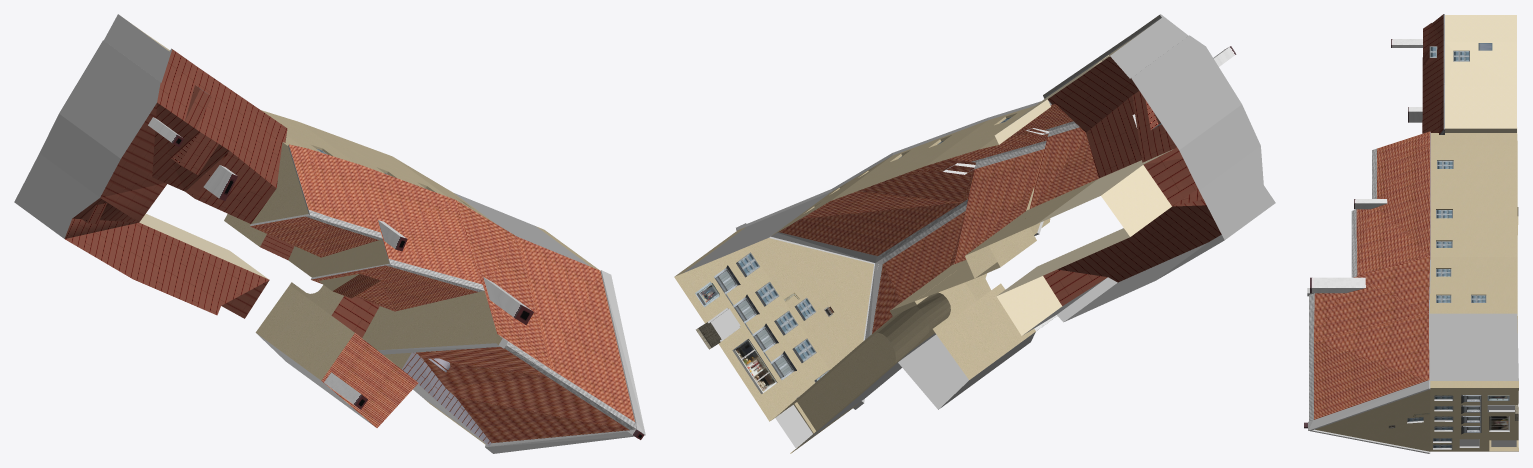
Rendered from Pikk_15.obj.
The picture shows the model from 3 angles, left to right: view 1: azimuth 30°, elevation 25°; view 2: azimuth 150°, elevation 25°; view 3: azimuth 270°, elevation 25°; orthographic projection. The views are drawn at different scales.
Parts seen in each view (by area): view 1: Pikk_15; view 2: Pikk_15; view 3: Pikk_15.
Part boxes in pixels (bbox=[...]): Pikk_15: bbox=[14, 14, 645, 453]; Pikk_15: bbox=[674, 14, 1275, 453]; Pikk_15: bbox=[1304, 14, 1518, 453].
Size of the model in its own units: 48.34 by 40.53 by 23.68.
